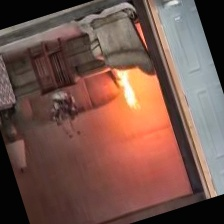fire: (112, 65, 149, 119)
